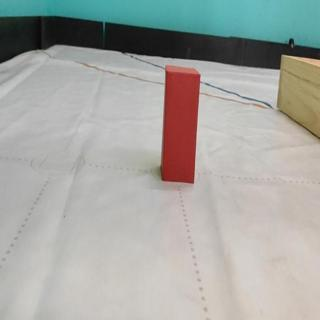redbox: (161, 65, 200, 185)
